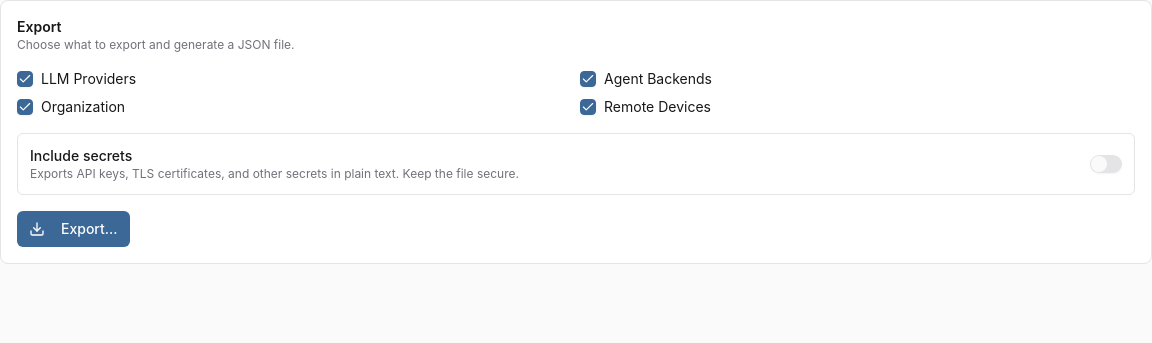
Scenario: ExportSection › 勾选包含凭证后显示警告
Click the switch.
click(1106, 164)  # box [1090,155,1122,173]
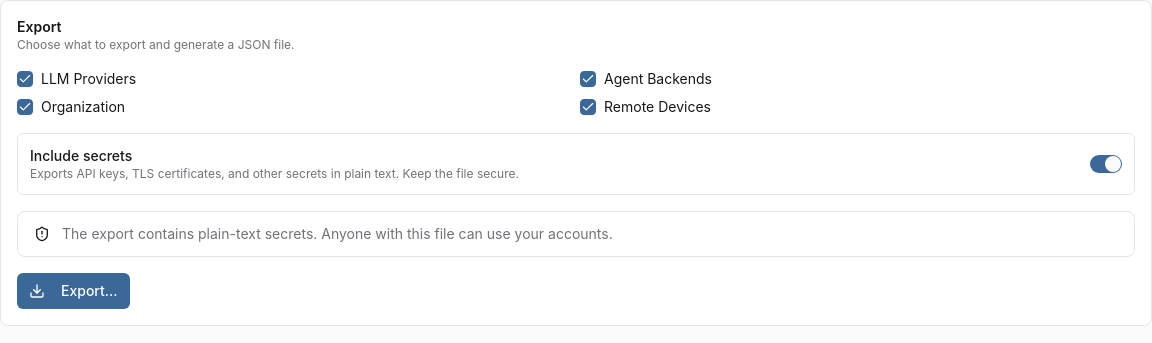
Check: the text "plain-text secrets" is shown, box [62,225,613,242]
